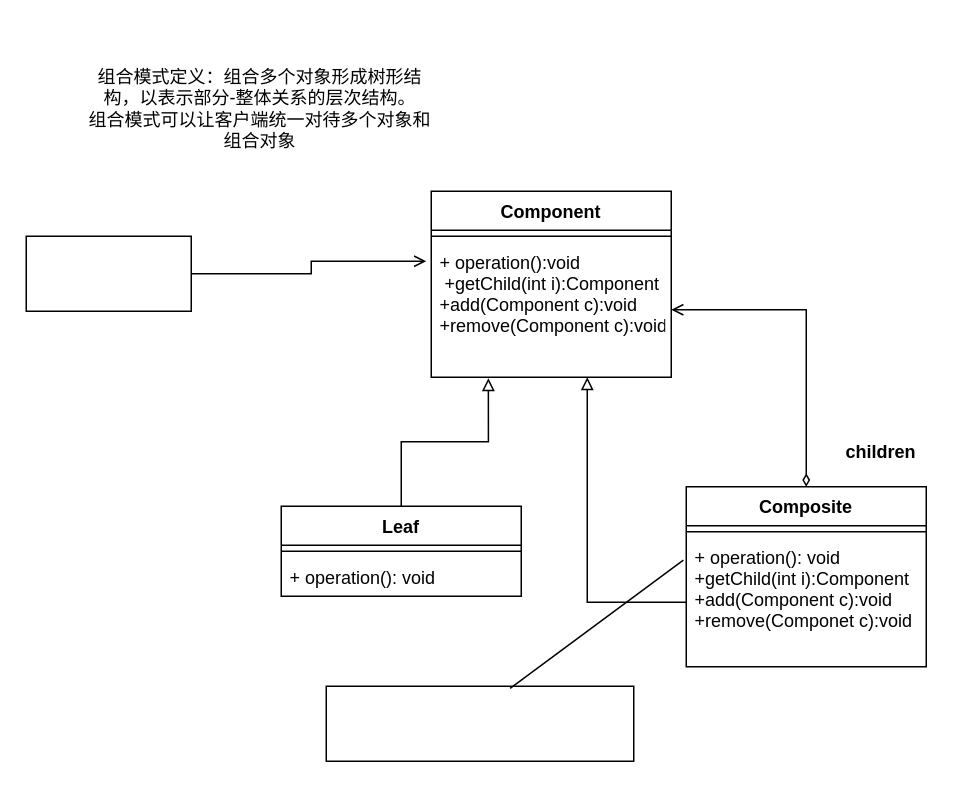
The diagram is 968 pixels wide and 788 high, and some of its shapes have lost their labels. The box of each missing label's shape, as (x1, y1, x2, y2) in pixels:
client: (25, 235, 191, 311)
for(Children c:childrens){ c.operation(); }: (325, 685, 634, 761)
